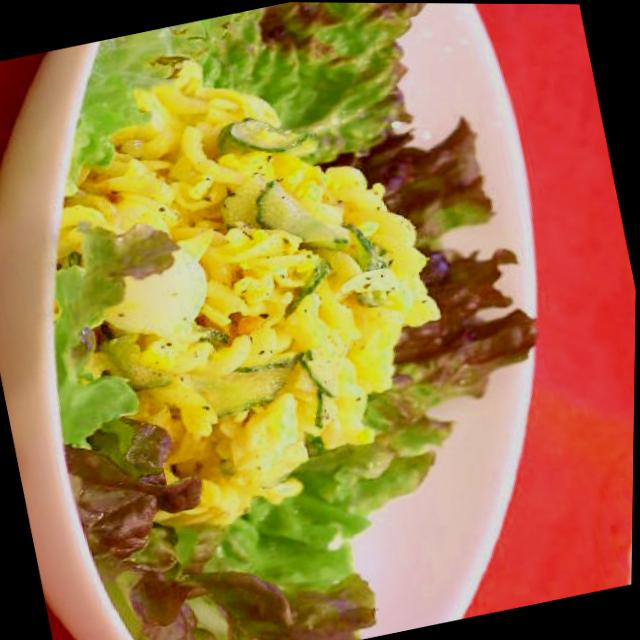蔬菜料理: (0, 0, 622, 640)
